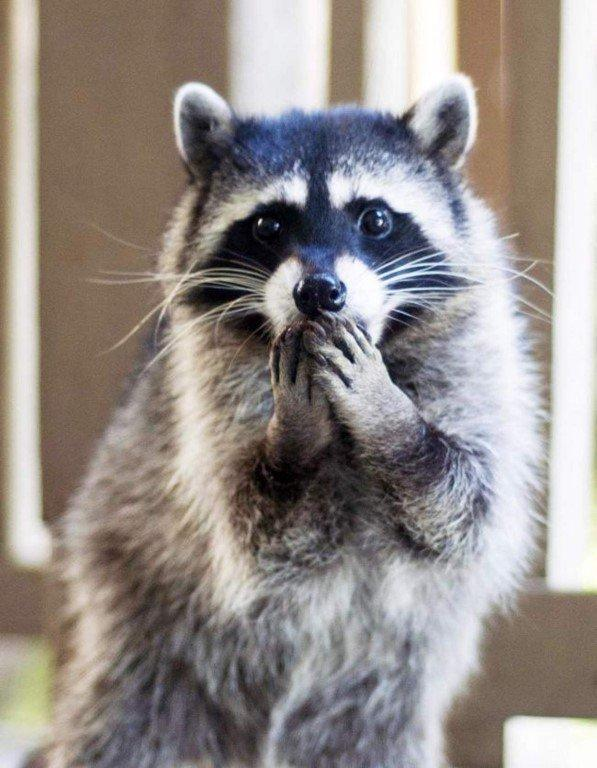raccoon: (36, 68, 550, 768)
